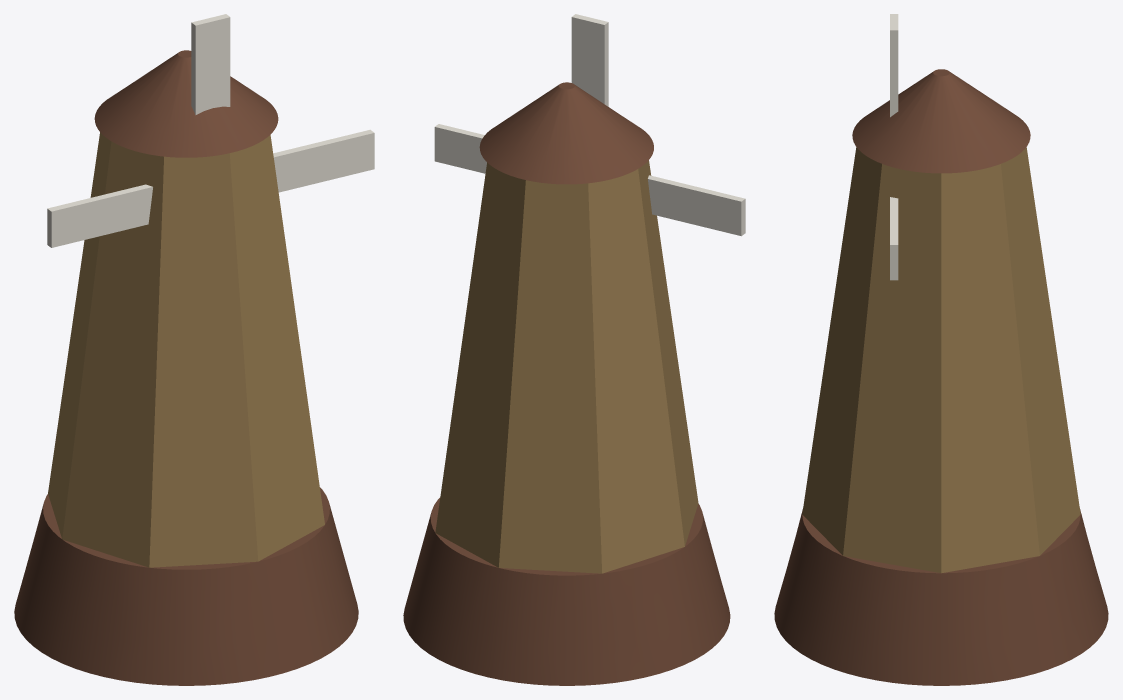
The model's file is d-nl-02-polder-windmill.glb.
The picture shows the model from 3 angles, left to right: view 1: azimuth 30°, elevation 25°; view 2: azimuth 150°, elevation 25°; view 3: azimuth 270°, elevation 25°; orthographic projection. The views are drawn at different scales.
Visible parts, largest first — view 1: part1, part0, part2, part4, part3, part6; view 2: part1, part0, part2, part4, part3, part6, part5; view 3: part1, part0, part2, part3, part4.
Part boxes in pixels (x1,y1,x2,y2): part1: (48, 132, 324, 567); part0: (14, 487, 358, 685); part2: (94, 50, 278, 157); part4: (47, 130, 374, 247); part3: (191, 14, 230, 114); part6: (47, 130, 372, 247); part1: (435, 160, 698, 573); part0: (403, 497, 730, 685); part2: (479, 82, 653, 184); part4: (434, 124, 745, 235); part3: (571, 14, 608, 106); part6: (435, 124, 745, 235); part5: (571, 14, 608, 106); part1: (802, 147, 1080, 573); part0: (774, 509, 1108, 685); part2: (852, 69, 1030, 173); part3: (890, 14, 898, 116); part4: (890, 197, 898, 280).
Size of the model in its own units: 13000 by 23500 by 11996.
